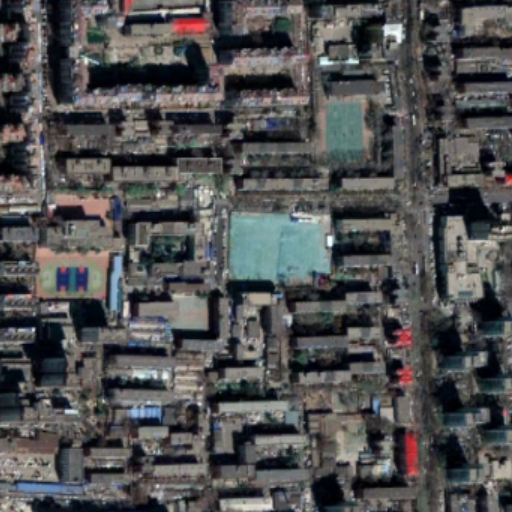cw: (226, 208, 333, 287)
